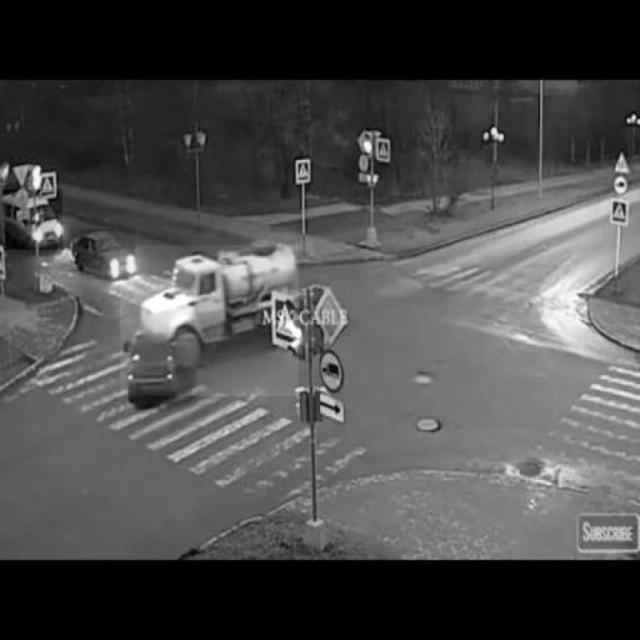accident: (120, 245, 298, 396)
vehicle: (4, 189, 62, 250), (71, 229, 135, 280)
